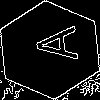A: (25, 25, 78, 63)
